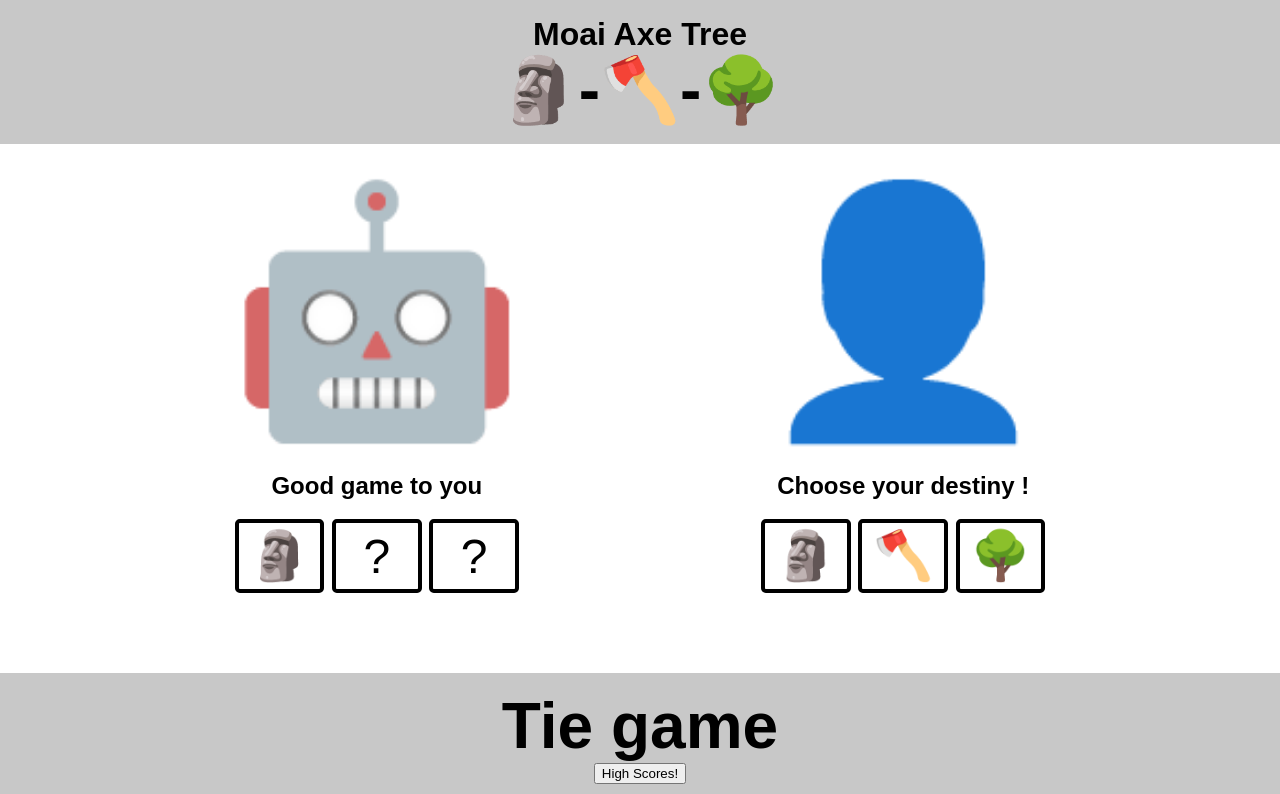
Test: Game tests › Can fetch high scores
Click the button with test id "high-scores" at point(640, 774), box top-left (594, 763), bottom-right (686, 784)
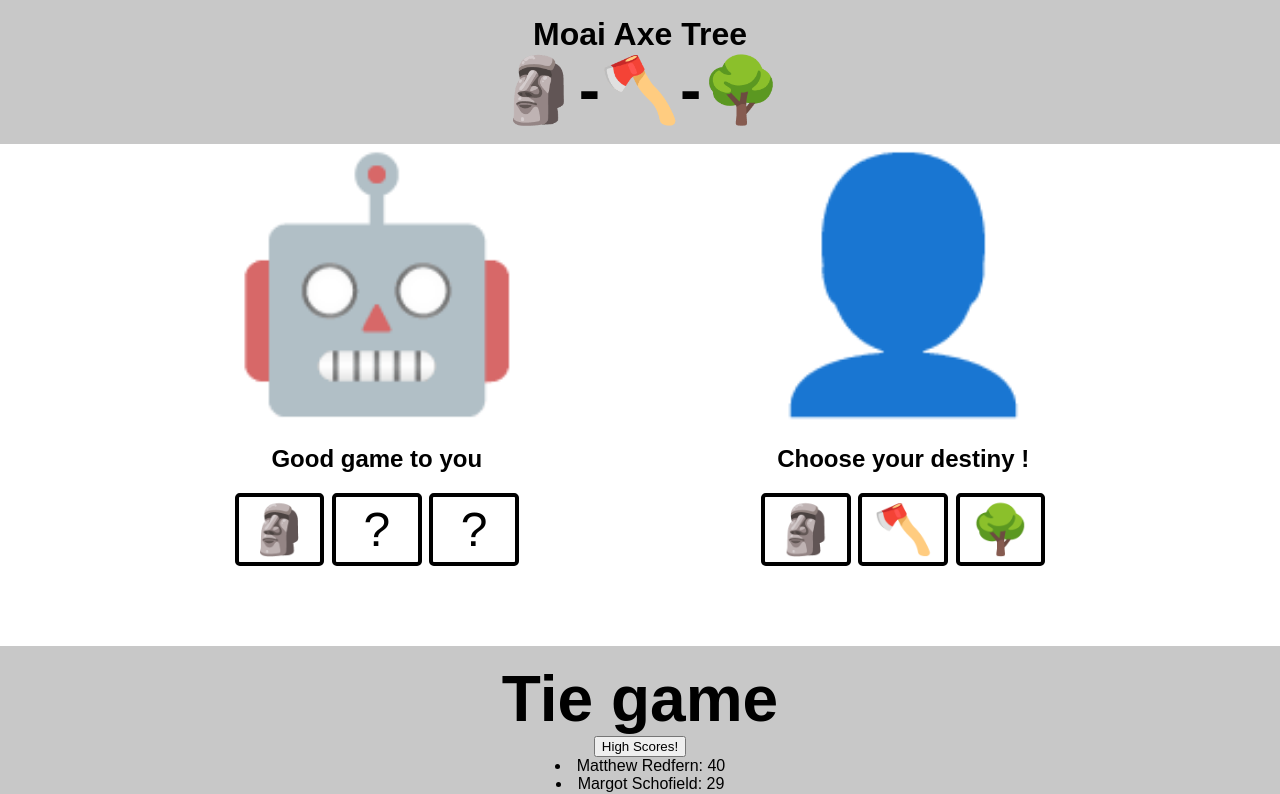
Result: the list item "Matthew" is shown at top-left (577, 757), bottom-right (699, 774)
